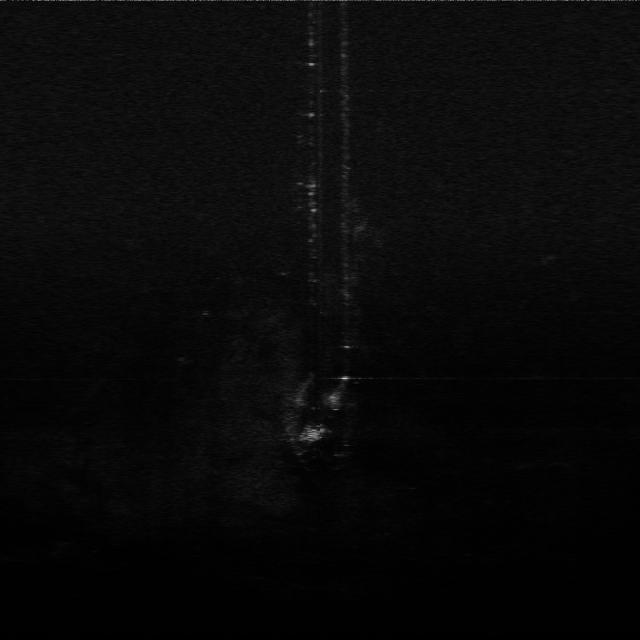rov: (298, 423, 327, 444)
